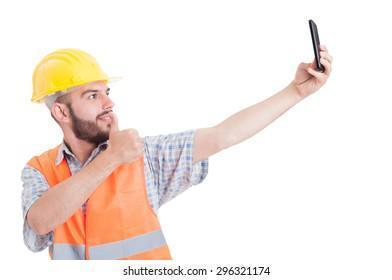helmet: (30, 49, 124, 102)
